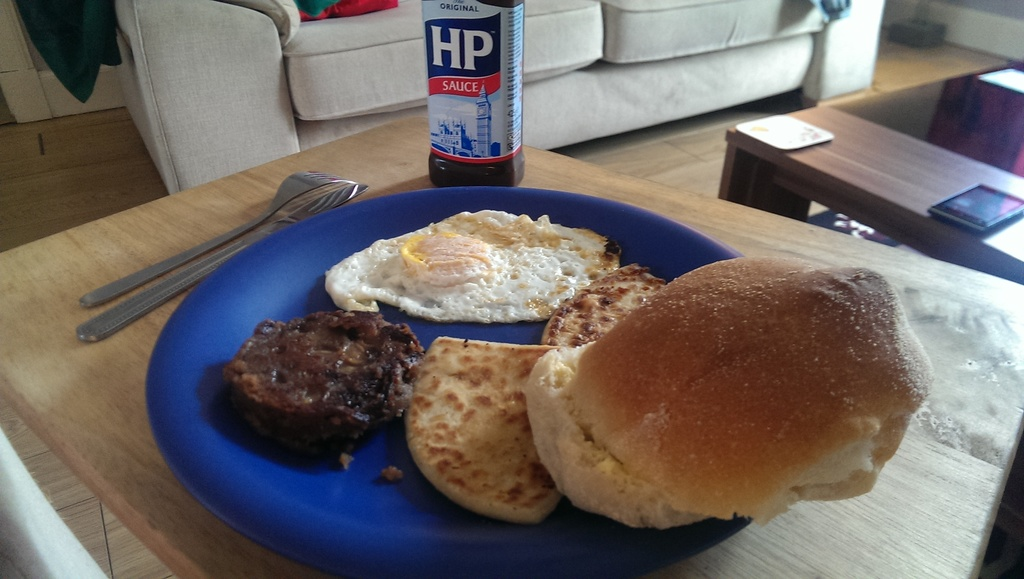Hamburger: (530, 252, 931, 530)
